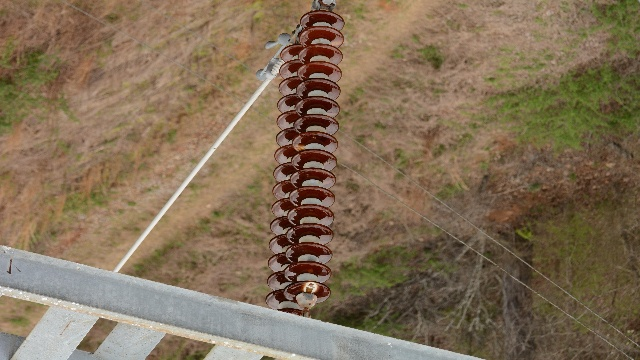insulator_unspecified: (263, 11, 348, 309)
pollution_flashover_local: (301, 280, 320, 294), (331, 37, 344, 48), (293, 143, 308, 152)
